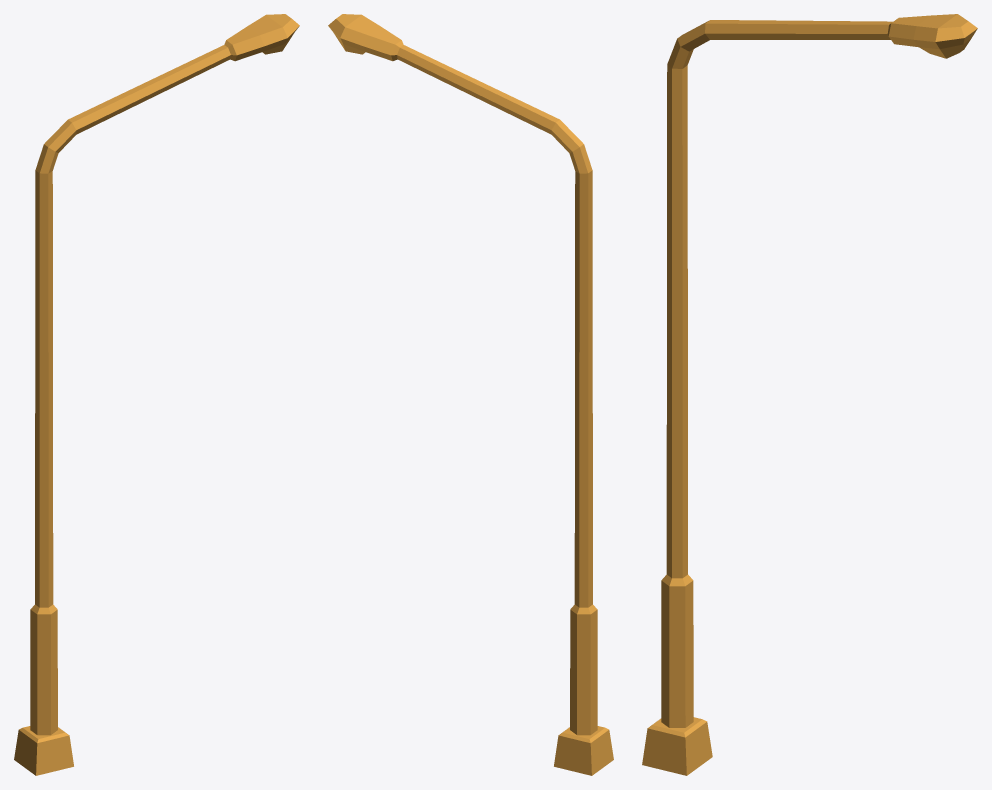
The model's file is lamp-road.glb.
3 renders of one model, left to right at view 1: azimuth 30°, elevation 25°; view 2: azimuth 150°, elevation 25°; view 3: azimuth 330°, elevation 25°, orthographic. The views are drawn at different scales.
Parts seen in each view (by area): view 1: lamp-road; view 2: lamp-road; view 3: lamp-road.
Boxes of the visible parts, left/top/right/bottom form: lamp-road: left=14, top=14, right=299, bottom=775; lamp-road: left=328, top=14, right=613, bottom=775; lamp-road: left=642, top=14, right=977, bottom=775.
Size of the model in its own units: 3.88 by 9.46 by 0.5996.
